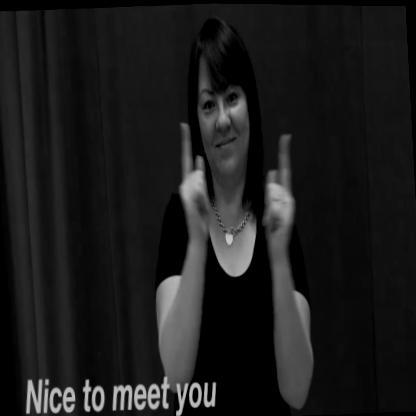NiceToMeetYou: (170, 106, 310, 295)
